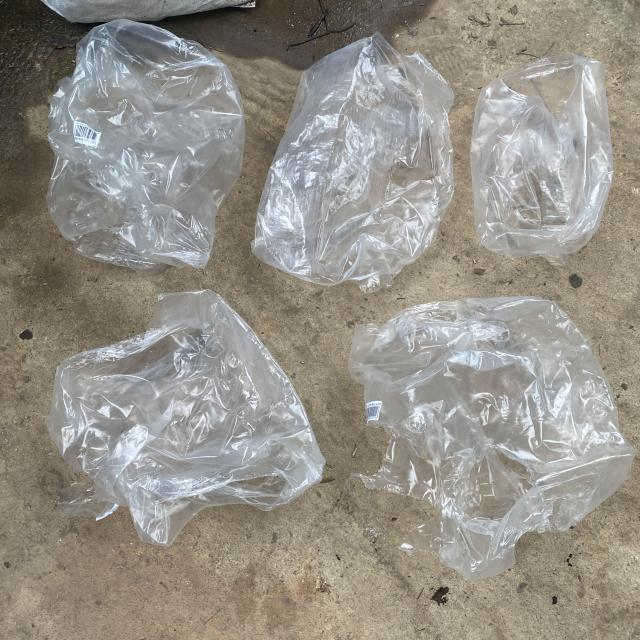Single-layer Plastic: (349, 296, 635, 580), (46, 290, 325, 546), (251, 34, 454, 292), (46, 19, 244, 272), (470, 52, 612, 264)
